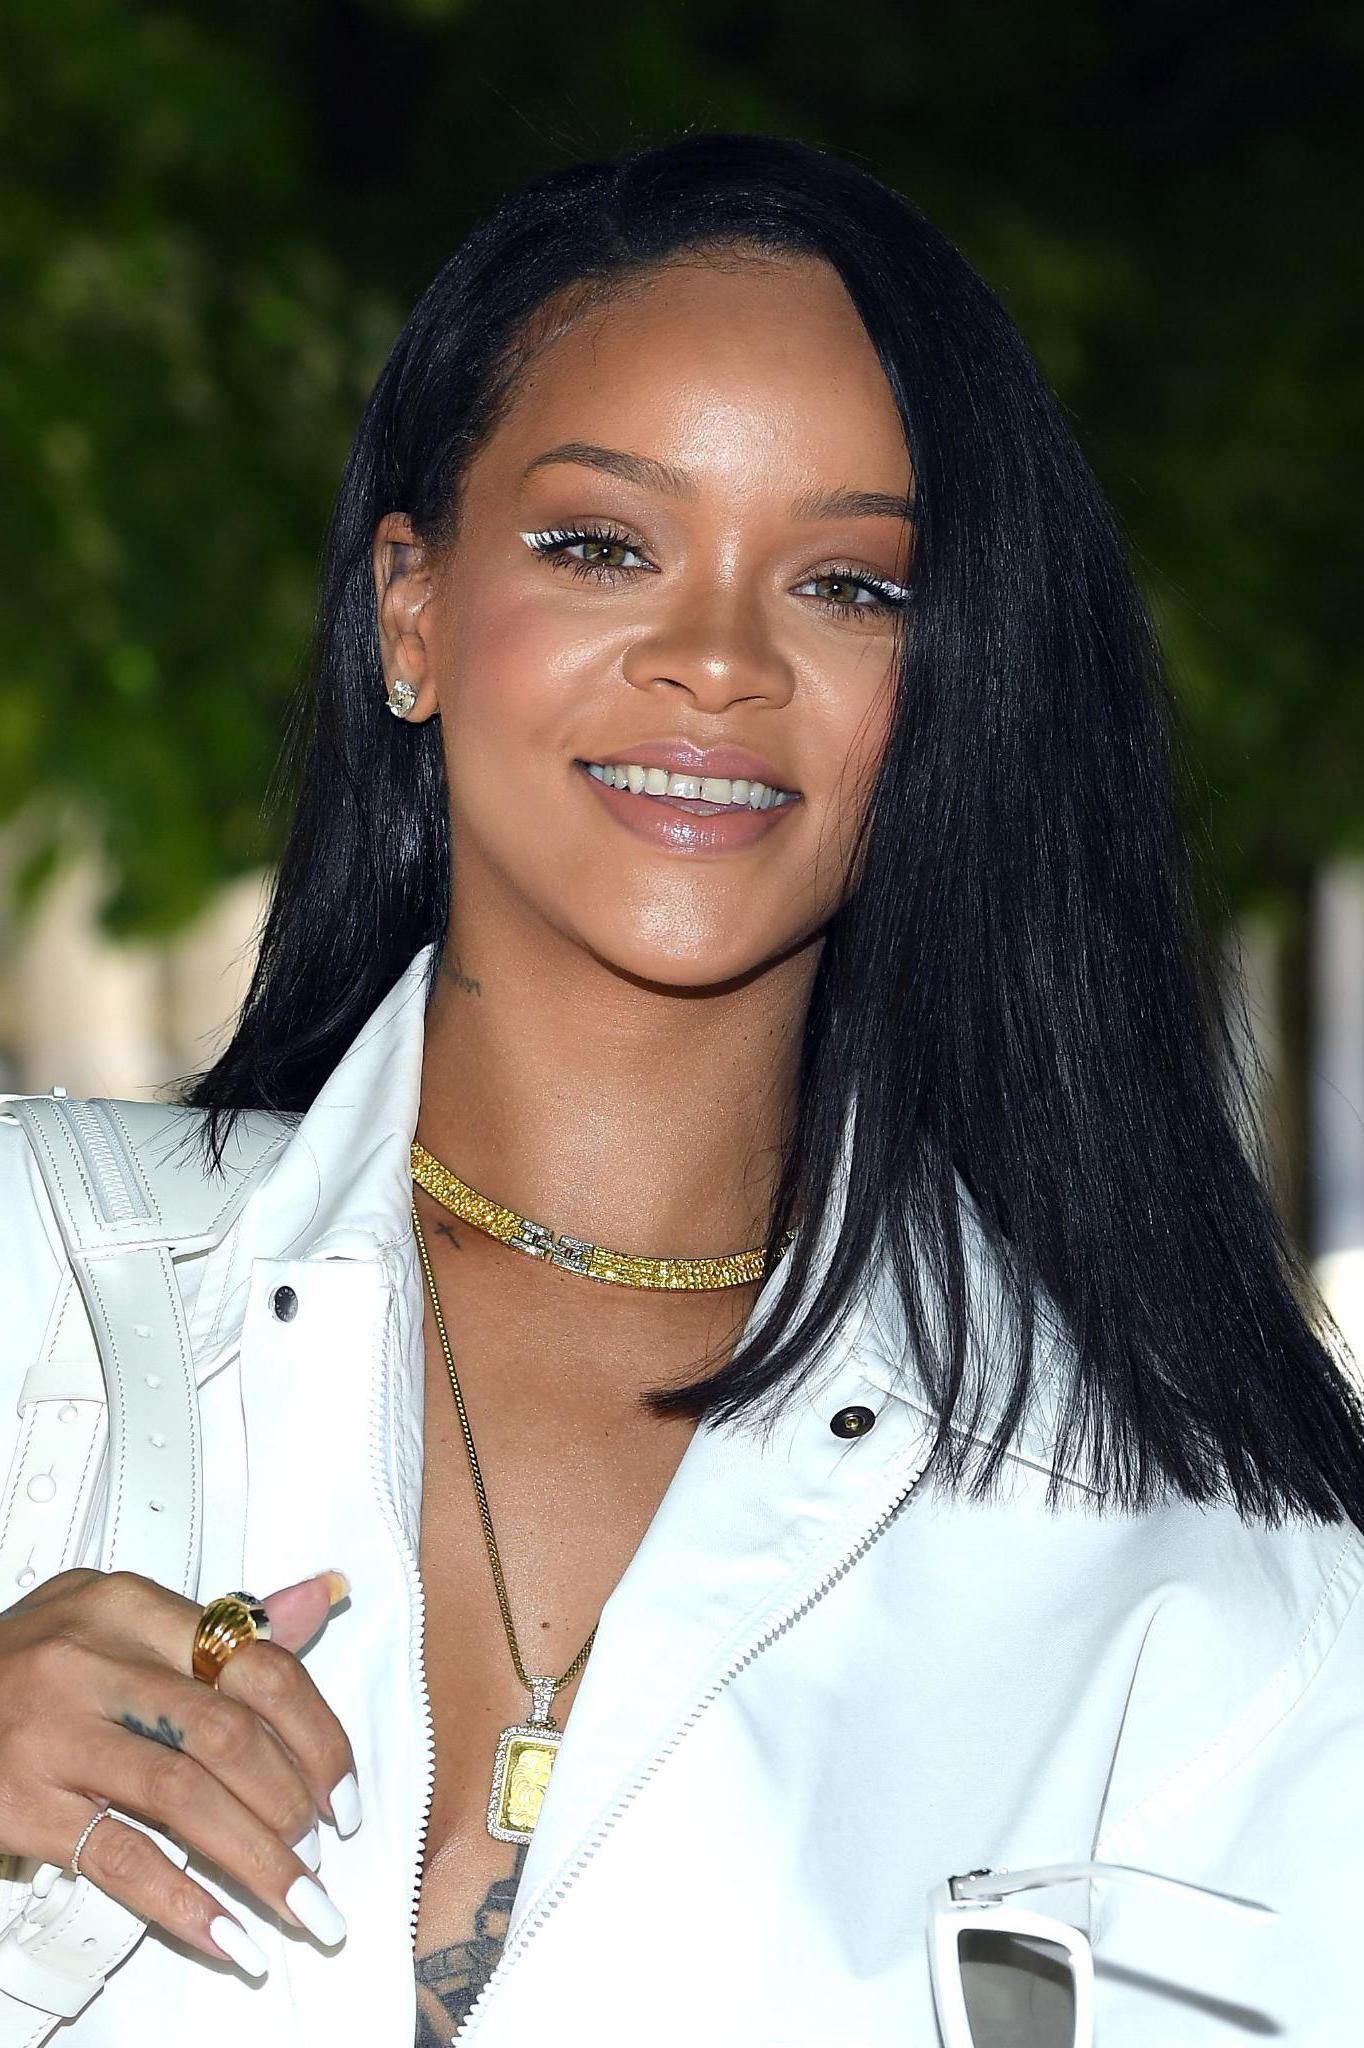Sober: (467, 256, 919, 940)
